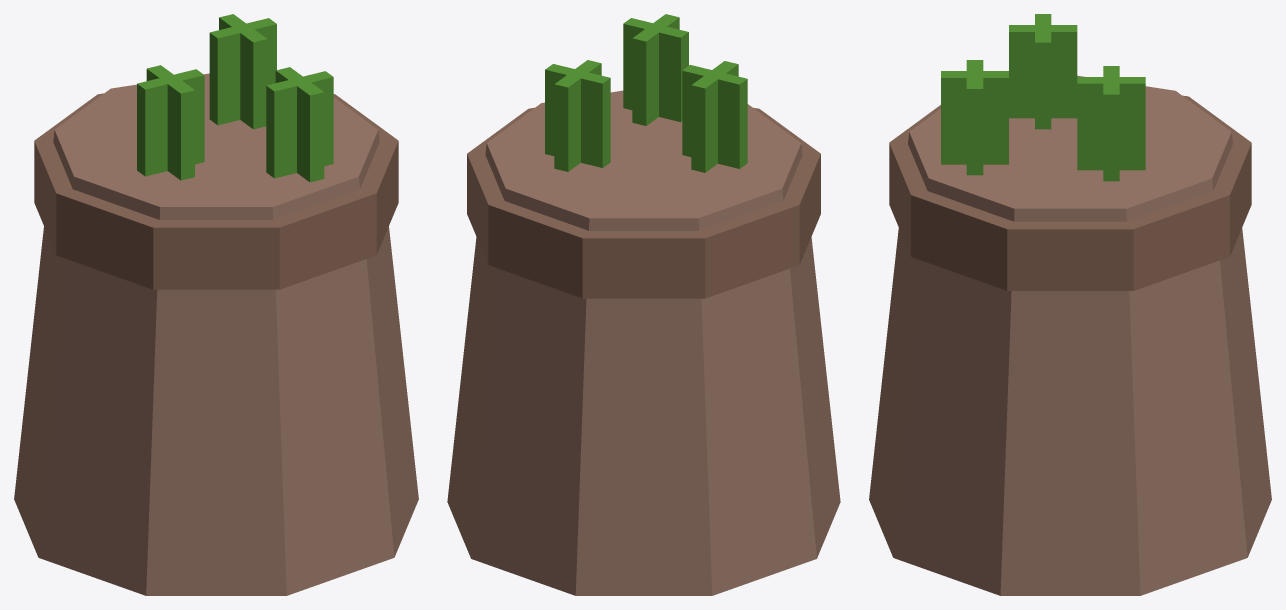
Rendered from ce_ammo2_dart_venom_c.obj.
The picture shows the model from 3 angles, left to right: view 1: azimuth 30°, elevation 25°; view 2: azimuth 150°, elevation 25°; view 3: azimuth 270°, elevation 25°; orthographic projection. The views are drawn at different scales.
Parts seen in each view (by area): view 1: ce_ammo2_dart_venom_c_0, ce_ammo2_dart_venom_c_1, ce_ammo2_dart_venom_c_6, ce_ammo2_dart_venom_c_2, ce_ammo2_dart_venom_c_4, ce_ammo2_dart_venom_c_3, ce_ammo2_dart_venom_c_7, ce_ammo2_dart_venom_c_5; view 2: ce_ammo2_dart_venom_c_0, ce_ammo2_dart_venom_c_1, ce_ammo2_dart_venom_c_2, ce_ammo2_dart_venom_c_4, ce_ammo2_dart_venom_c_6, ce_ammo2_dart_venom_c_5, ce_ammo2_dart_venom_c_3, ce_ammo2_dart_venom_c_7; view 3: ce_ammo2_dart_venom_c_0, ce_ammo2_dart_venom_c_1, ce_ammo2_dart_venom_c_5, ce_ammo2_dart_venom_c_3, ce_ammo2_dart_venom_c_7, ce_ammo2_dart_venom_c_6, ce_ammo2_dart_venom_c_4, ce_ammo2_dart_venom_c_2.
Part boxes in pixels (x1=…): ce_ammo2_dart_venom_c_0: x1=14, y1=73, x2=418, y2=595; ce_ammo2_dart_venom_c_1: x1=34, y1=93, x2=398, y2=289; ce_ammo2_dart_venom_c_6: x1=266, y1=71, x2=333, y2=178; ce_ammo2_dart_venom_c_2: x1=137, y1=69, x2=204, y2=176; ce_ammo2_dart_venom_c_4: x1=209, y1=18, x2=276, y2=125; ce_ammo2_dart_venom_c_3: x1=146, y1=65, x2=194, y2=180; ce_ammo2_dart_venom_c_7: x1=275, y1=67, x2=324, y2=182; ce_ammo2_dart_venom_c_5: x1=219, y1=14, x2=267, y2=129; ce_ammo2_dart_venom_c_0: x1=447, y1=90, x2=840, y2=595; ce_ammo2_dart_venom_c_1: x1=467, y1=107, x2=820, y2=298; ce_ammo2_dart_venom_c_2: x1=682, y1=65, x2=747, y2=168; ce_ammo2_dart_venom_c_4: x1=545, y1=64, x2=610, y2=167; ce_ammo2_dart_venom_c_6: x1=623, y1=18, x2=688, y2=122; ce_ammo2_dart_venom_c_5: x1=554, y1=60, x2=601, y2=171; ce_ammo2_dart_venom_c_3: x1=691, y1=61, x2=738, y2=172; ce_ammo2_dart_venom_c_7: x1=632, y1=14, x2=679, y2=125; ce_ammo2_dart_venom_c_0: x1=869, y1=75, x2=1271, y2=595; ce_ammo2_dart_venom_c_1: x1=889, y1=95, x2=1251, y2=290; ce_ammo2_dart_venom_c_5: x1=1077, y1=77, x2=1145, y2=170; ce_ammo2_dart_venom_c_3: x1=1009, y1=25, x2=1077, y2=118; ce_ammo2_dart_venom_c_7: x1=941, y1=71, x2=1008, y2=164; ce_ammo2_dart_venom_c_6: x1=966, y1=60, x2=983, y2=175; ce_ammo2_dart_venom_c_4: x1=1103, y1=66, x2=1119, y2=181; ce_ammo2_dart_venom_c_2: x1=1035, y1=14, x2=1051, y2=129.
Bounding box in the file's own units: 0.291 × 0.37 × 0.2954.
